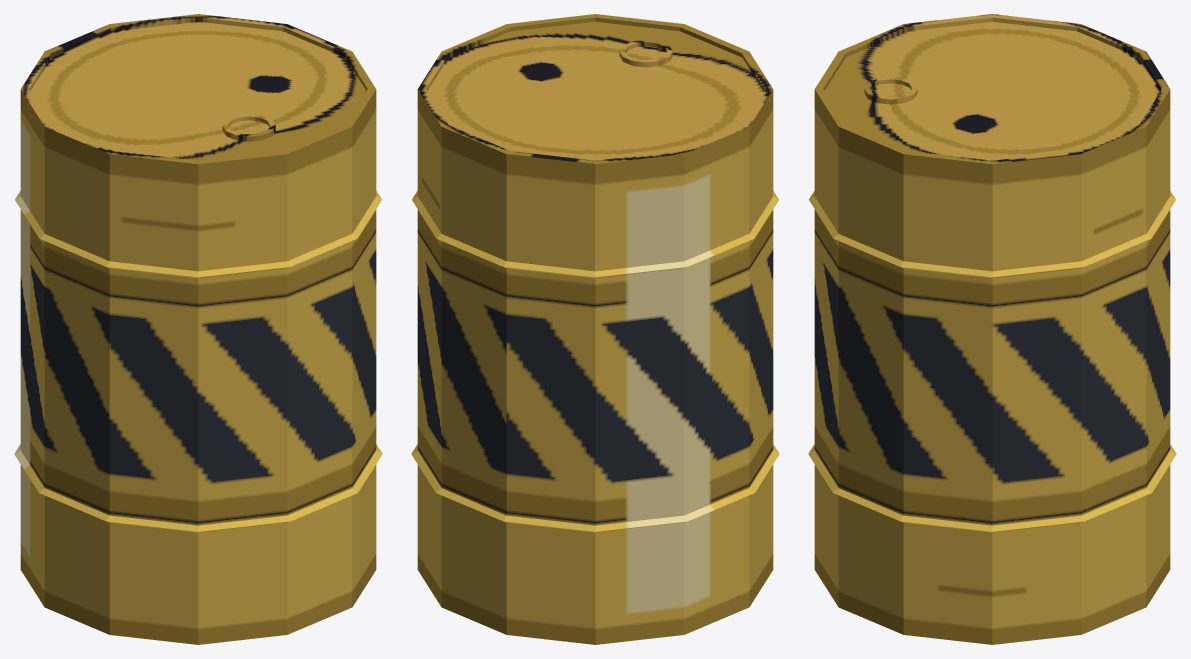
The model's file is prop_barrels_hazard.glb.
The picture shows the model from 3 angles, left to right: view 1: azimuth 30°, elevation 25°; view 2: azimuth 150°, elevation 25°; view 3: azimuth 270°, elevation 25°; orthographic projection.
Parts seen in each view (by area): view 1: prop_barrels_hazard_mesh; view 2: prop_barrels_hazard_mesh; view 3: prop_barrels_hazard_mesh.
Part boxes in pixels (x1,y1,x2,y2): prop_barrels_hazard_mesh: (14, 14, 382, 644); prop_barrels_hazard_mesh: (411, 14, 779, 644); prop_barrels_hazard_mesh: (808, 14, 1176, 644).
Size of the model in its own units: 0.6243 by 0.9 by 0.6243.
1 material, 1 textured.
